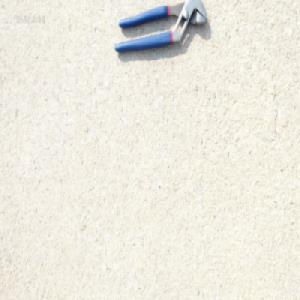Pliers: (113, 0, 207, 55)
